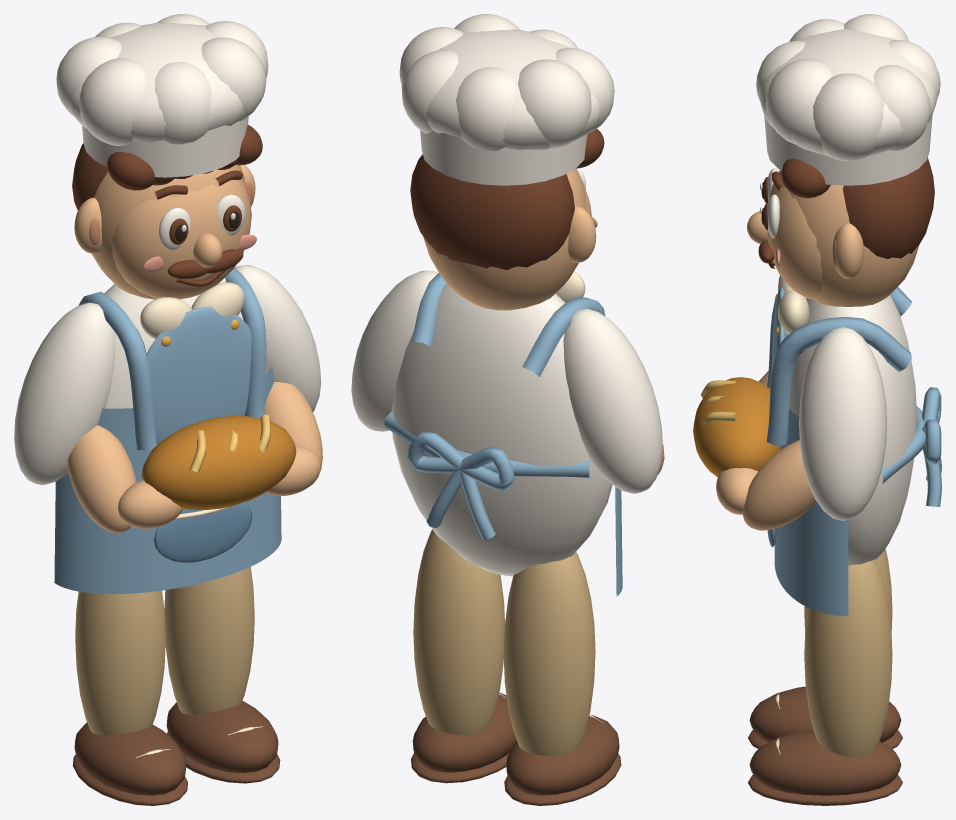
File: baker.glb
3 renders of one model, left to right at view 1: azimuth 30°, elevation 25°; view 2: azimuth 150°, elevation 25°; view 3: azimuth 270°, elevation 25°, orthographic.
Parts seen in each view (by area): view 1: Hosenbein (×2), Jackenaermel (×2), Muetzenfalte (×5), Schuerze, Schuh (×2), Schuerzenlatz, Brot, Gesicht, Unterarm (×2), Muetze, Schulterband (×2), Muetzenband (+12 smaller); view 2: Jacke, Hosenbein (×2), Jackenaermel (×2), Muetzenfalte (×6), Haare hinten, Schuh (×2), Muetze, Kopf, Muetzenband, Schleife (×2), Schulterband (×2), Schuhsohle (×2) (+5 smaller); view 3: Muetzenfalte (×7), Hosenbein (×2), Jackenaermel, Schuh (×2), Jacke, Schuerze, Muetze, Haare hinten, Brot, Kopf, Schulterband (×2), Muetzenband (+12 smaller).
Boxes of the visible parts, x1=… form: Hosenbein (×2): x1=75, y1=567, x2=254, y2=735; Jackenaermel (×2): x1=14, y1=265, x2=321, y2=484; Muetzenfalte (×5): x1=56, y1=21, x2=268, y2=145; Schuerze: x1=54, y1=367, x2=281, y2=594; Schuh (×2): x1=74, y1=701, x2=278, y2=795; Schuerzenlatz: x1=146, y1=306, x2=251, y2=444; Brot: x1=141, y1=416, x2=296, y2=509; Gesicht: x1=111, y1=180, x2=251, y2=299; Unterarm (×2): x1=67, y1=382, x2=322, y2=533; Muetze: x1=68, y1=22, x2=266, y2=142; Schulterband (×2): x1=79, y1=267, x2=266, y2=450; Muetzenband: x1=82, y1=116, x2=248, y2=177; Jacke: x1=391, y1=283, x2=612, y2=576; Hosenbein (×2): x1=413, y1=529, x2=595, y2=756; Jackenaermel (×2): x1=351, y1=270, x2=662, y2=493; Muetzenfalte (×6): x1=399, y1=14, x2=614, y2=150; Haare hinten: x1=410, y1=154, x2=574, y2=270; Schuh (×2): x1=412, y1=692, x2=619, y2=795; Muetze: x1=401, y1=29, x2=601, y2=150; Kopf: x1=423, y1=168, x2=586, y2=310; Muetzenband: x1=420, y1=130, x2=587, y2=185; Schleife (×2): x1=407, y1=431, x2=514, y2=491; Schulterband (×2): x1=411, y1=273, x2=605, y2=376; Schuhsohle (×2): x1=411, y1=752, x2=621, y2=805; Muetzenfalte (×7): x1=756, y1=14, x2=940, y2=161; Hosenbein (×2): x1=804, y1=549, x2=892, y2=756; Jackenaermel: x1=799, y1=327, x2=887, y2=520; Schuh (×2): x1=749, y1=686, x2=901, y2=795; Jacke: x1=789, y1=295, x2=917, y2=565; Schuerze: x1=774, y1=409, x2=848, y2=616; Muetze: x1=758, y1=29, x2=938, y2=155; Haare hinten: x1=842, y1=157, x2=934, y2=258; Brot: x1=693, y1=377, x2=780, y2=477; Kopf: x1=780, y1=172, x2=919, y2=306; Schulterband (×2): x1=767, y1=287, x2=911, y2=446; Muetzenband: x1=764, y1=115, x2=932, y2=185.
Bounding box in the file's own units: 1.94 × 4.54 × 1.41.
